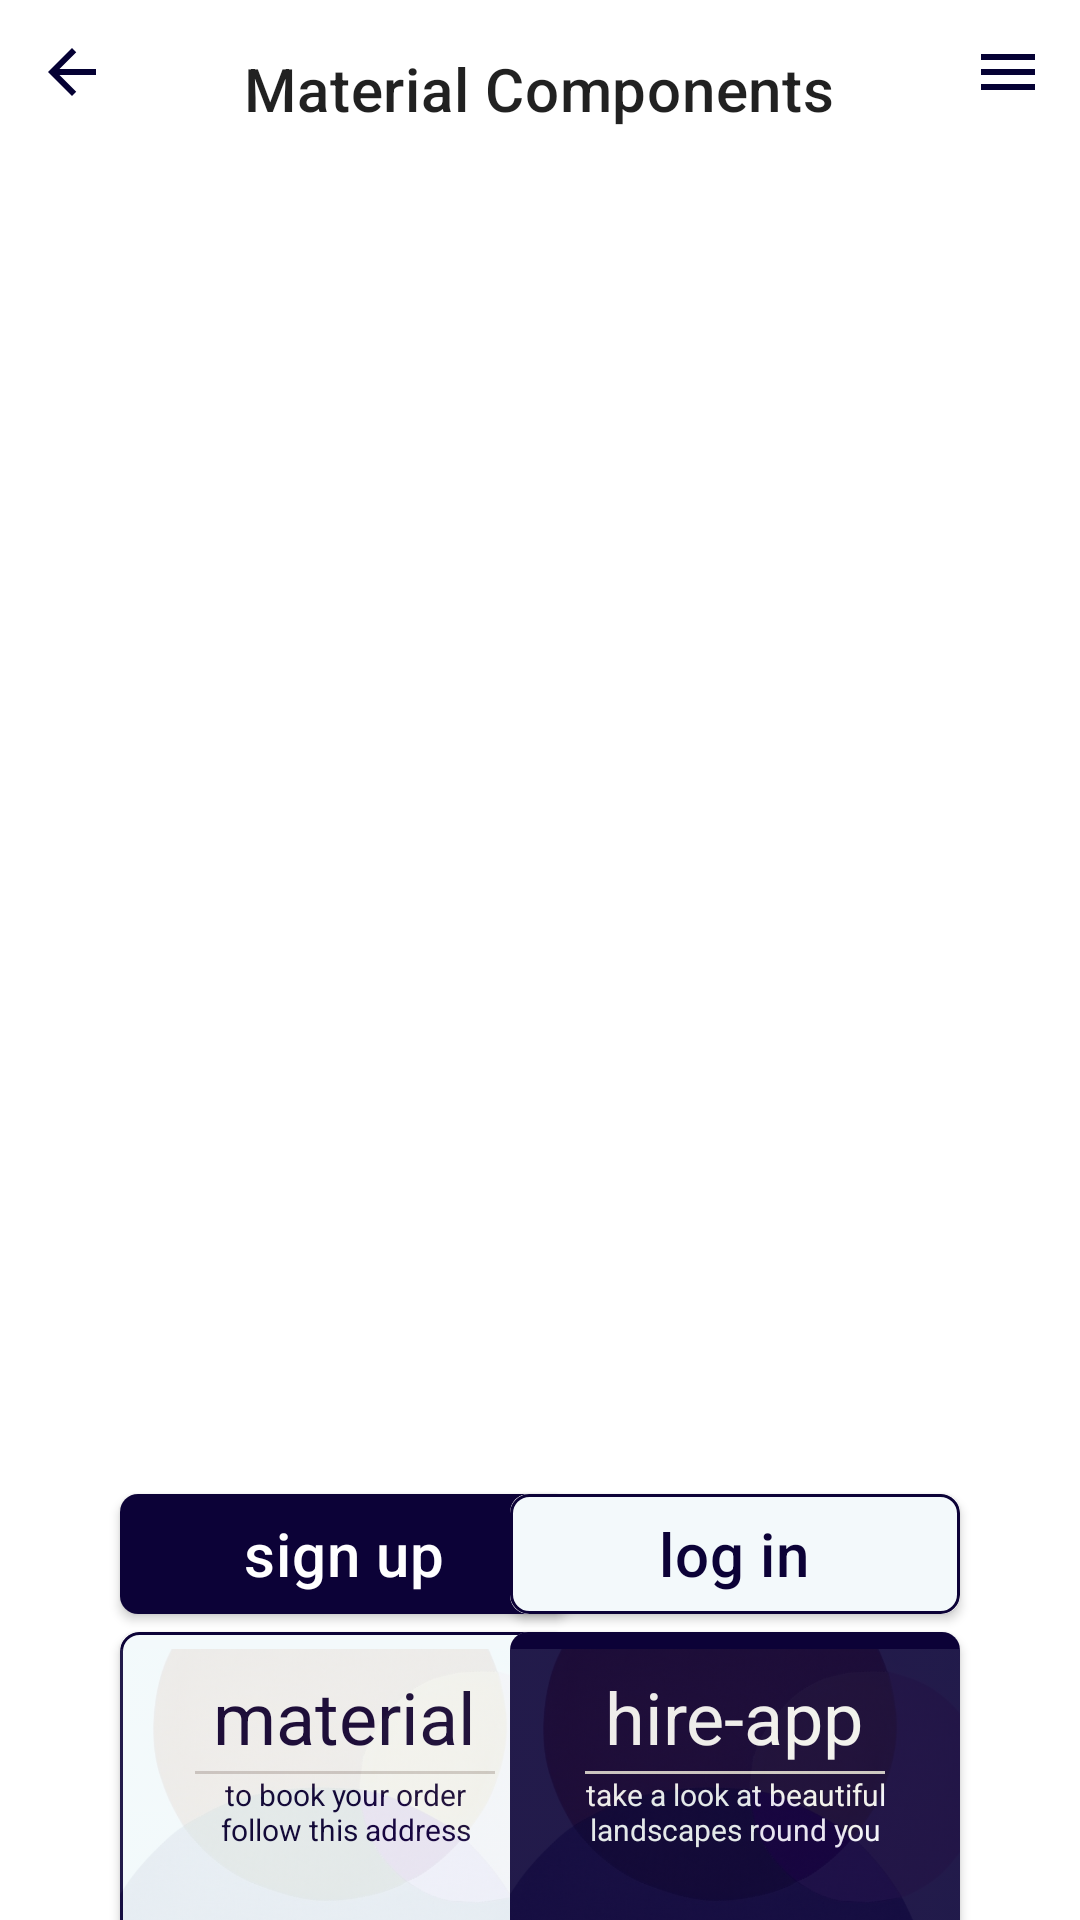

Named icons in this screenshot (1080×1920) and their centers, (x,y):
arrow back: (72,72)
menu: (1008,72)
